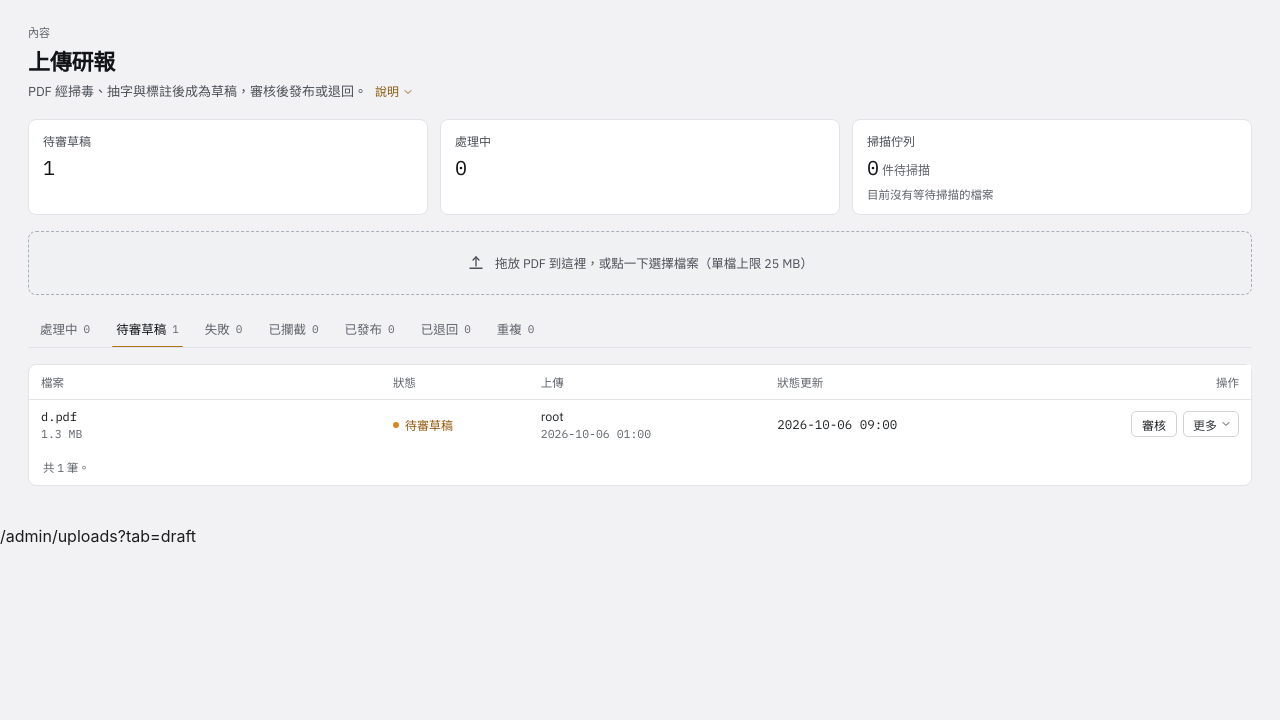
Test: 草稿的列動作：主要動作「審核」開抽屜；更多裡有發布與退回（退回是危險項、排最後）
Click the button with aria-label "d.pdf 的更多操作" at [1211, 424], box 1183,411 -> 1239,437
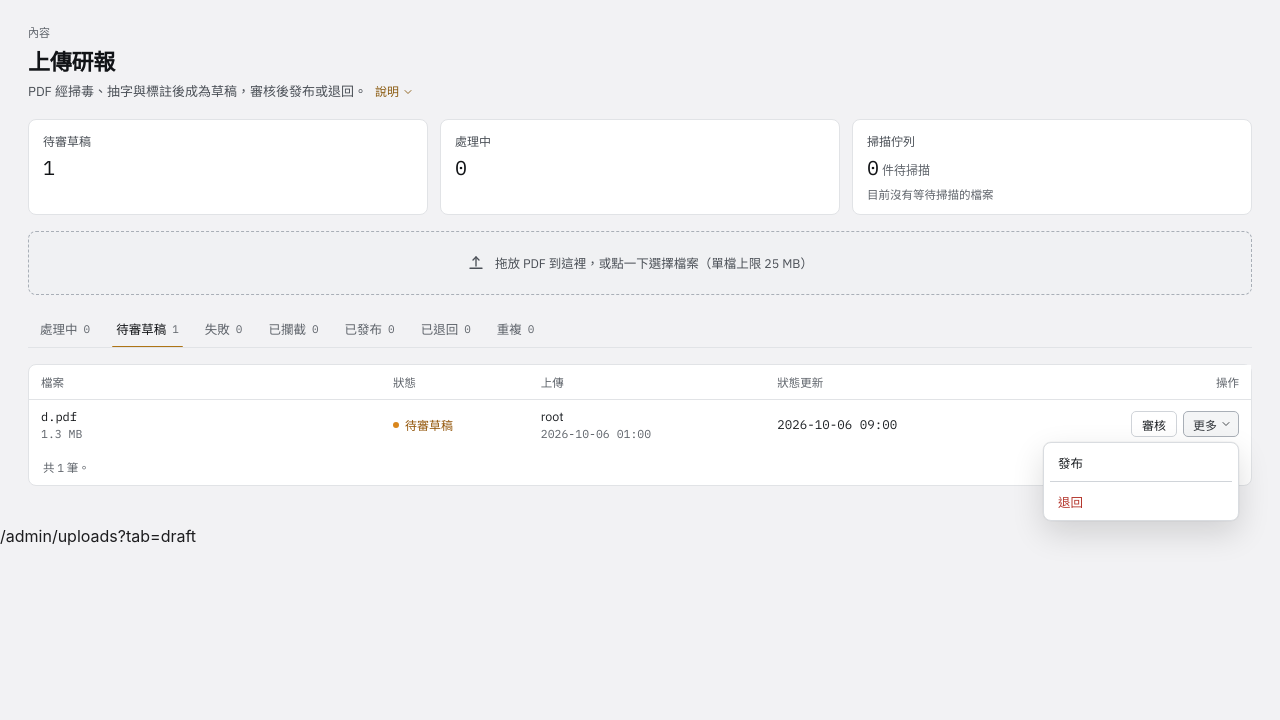
Check: the text with test id "where" reads "/admin/uploads?tab=draft", box 0,526 -> 196,546
Check: the menu items read "發布", "退回", in this order
Click the menu item "發布" at [1141, 462], box 1048,447 -> 1234,477
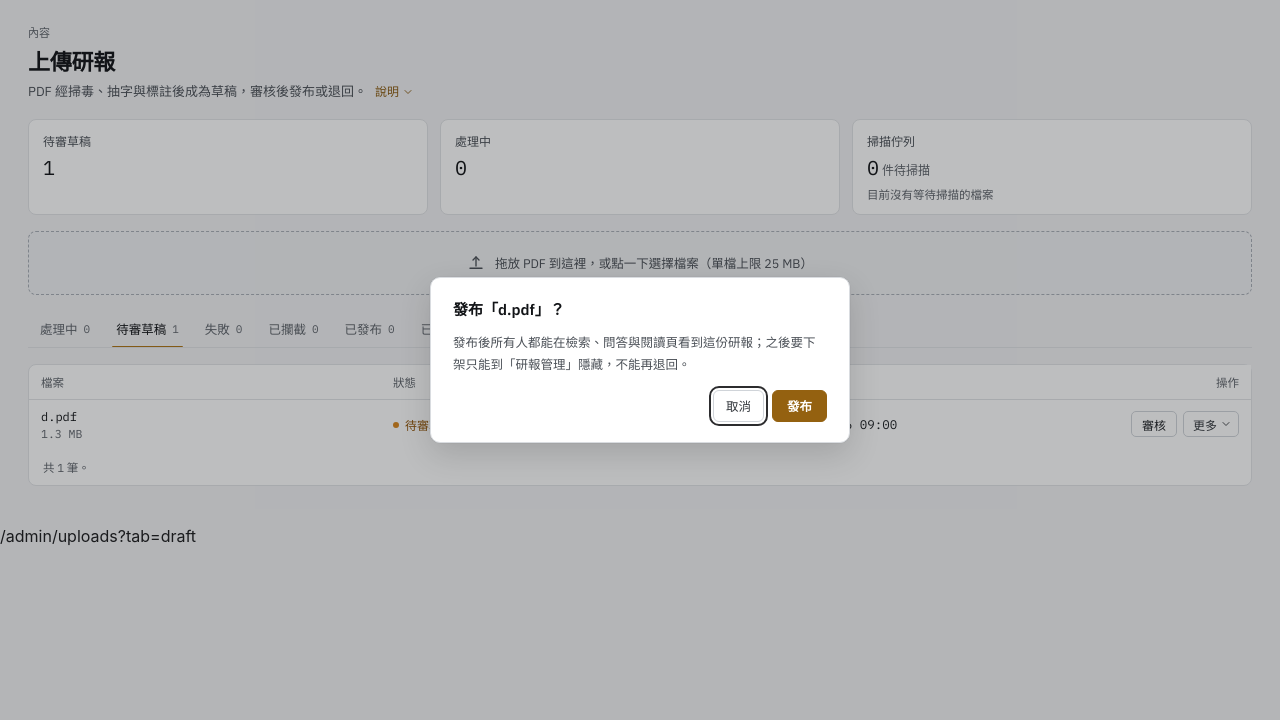
Check: the text "發布後所有人都能在檢索、問答與閱讀頁看到這份研報；之後要下架只能到「研報管理」隱藏，不能再退回。" is shown, box 453,332 -> 827,375
Click the button "發布" at [800, 406], box 772,390 -> 827,422
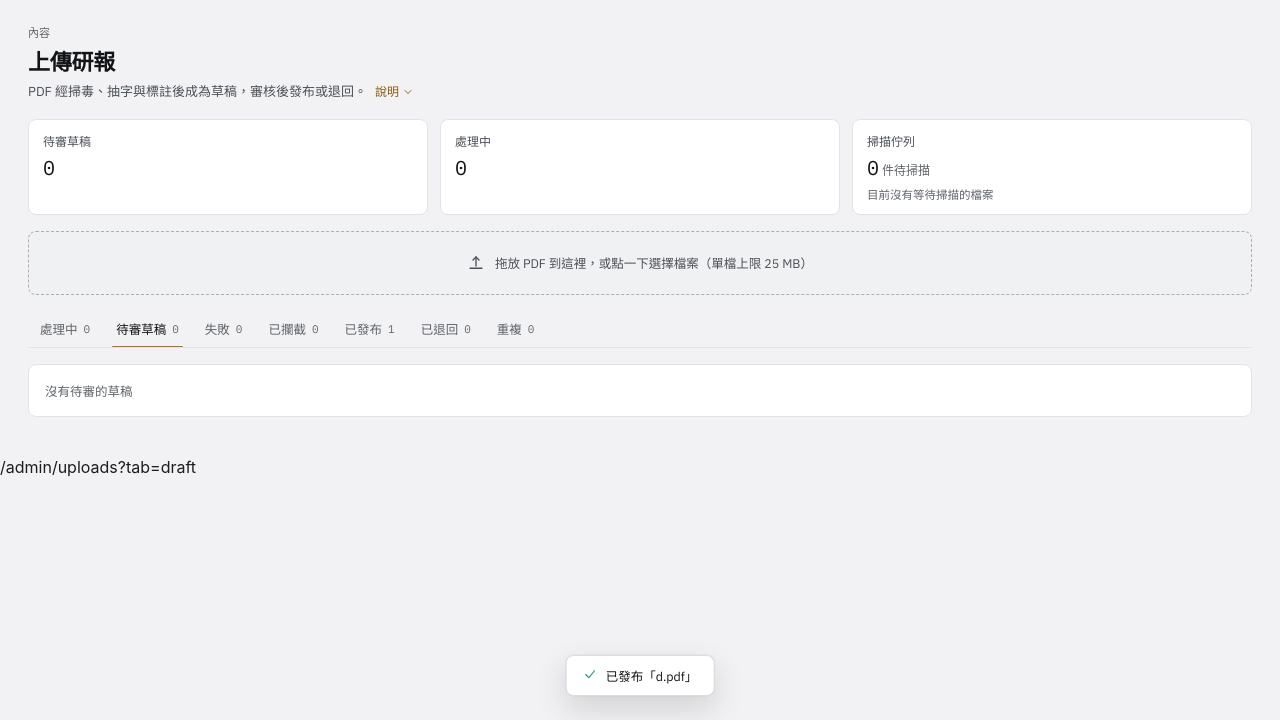
Check: the text "已發布「d.pdf」" is shown, box 566,655 -> 714,696
Check: the text "沒有待審的草稿" is shown, box 45,383 -> 132,399
